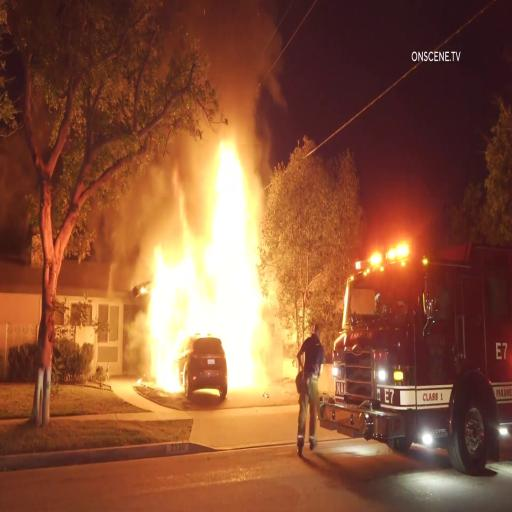fire: (156, 74, 267, 384)
smoke: (169, 2, 256, 66), (115, 190, 151, 277)
